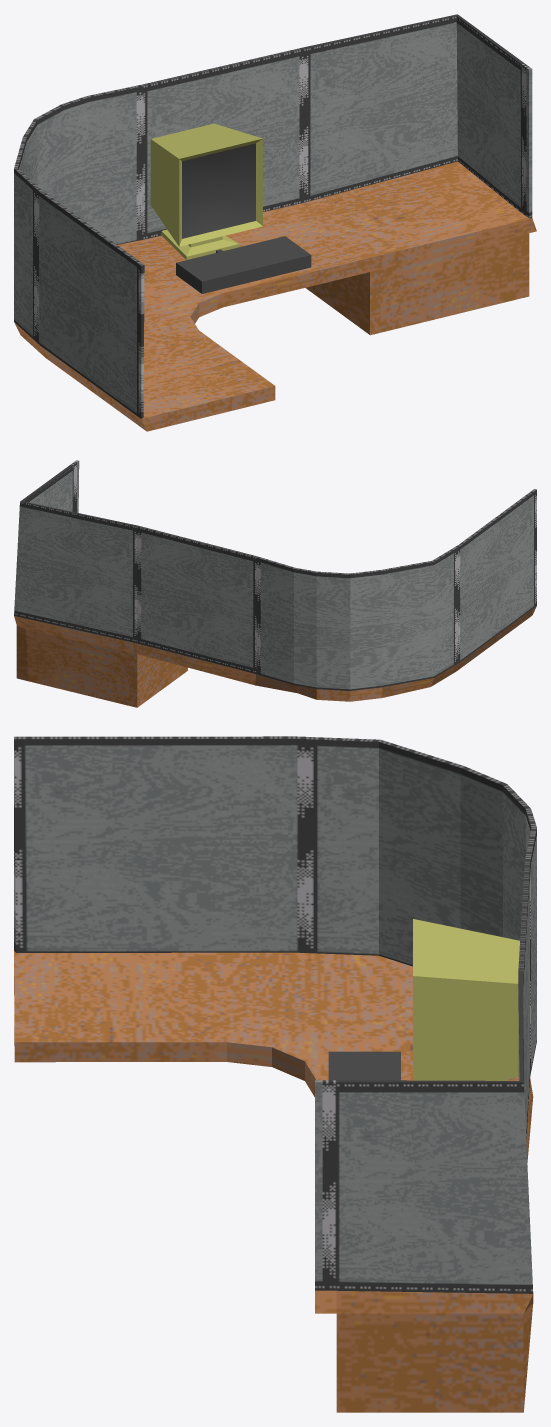
File: yk_telemarketing_domicile.fbx
The picture shows the model from 3 angles, top to bottom: view 1: azimuth 30°, elevation 25°; view 2: azimuth 150°, elevation 25°; view 3: azimuth 270°, elevation 25°; orthographic projection. The views are drawn at different scales.
Visible parts, largest first — view 1: Cube; view 2: Cube; view 3: Cube.
Part boxes in pixels (box(x1,y1,x2,y2)): Cube: box(14, 14, 536, 431); Cube: box(14, 460, 536, 707); Cube: box(14, 736, 536, 1412).
Size of the model in its own units: 745 by 337 by 479.
